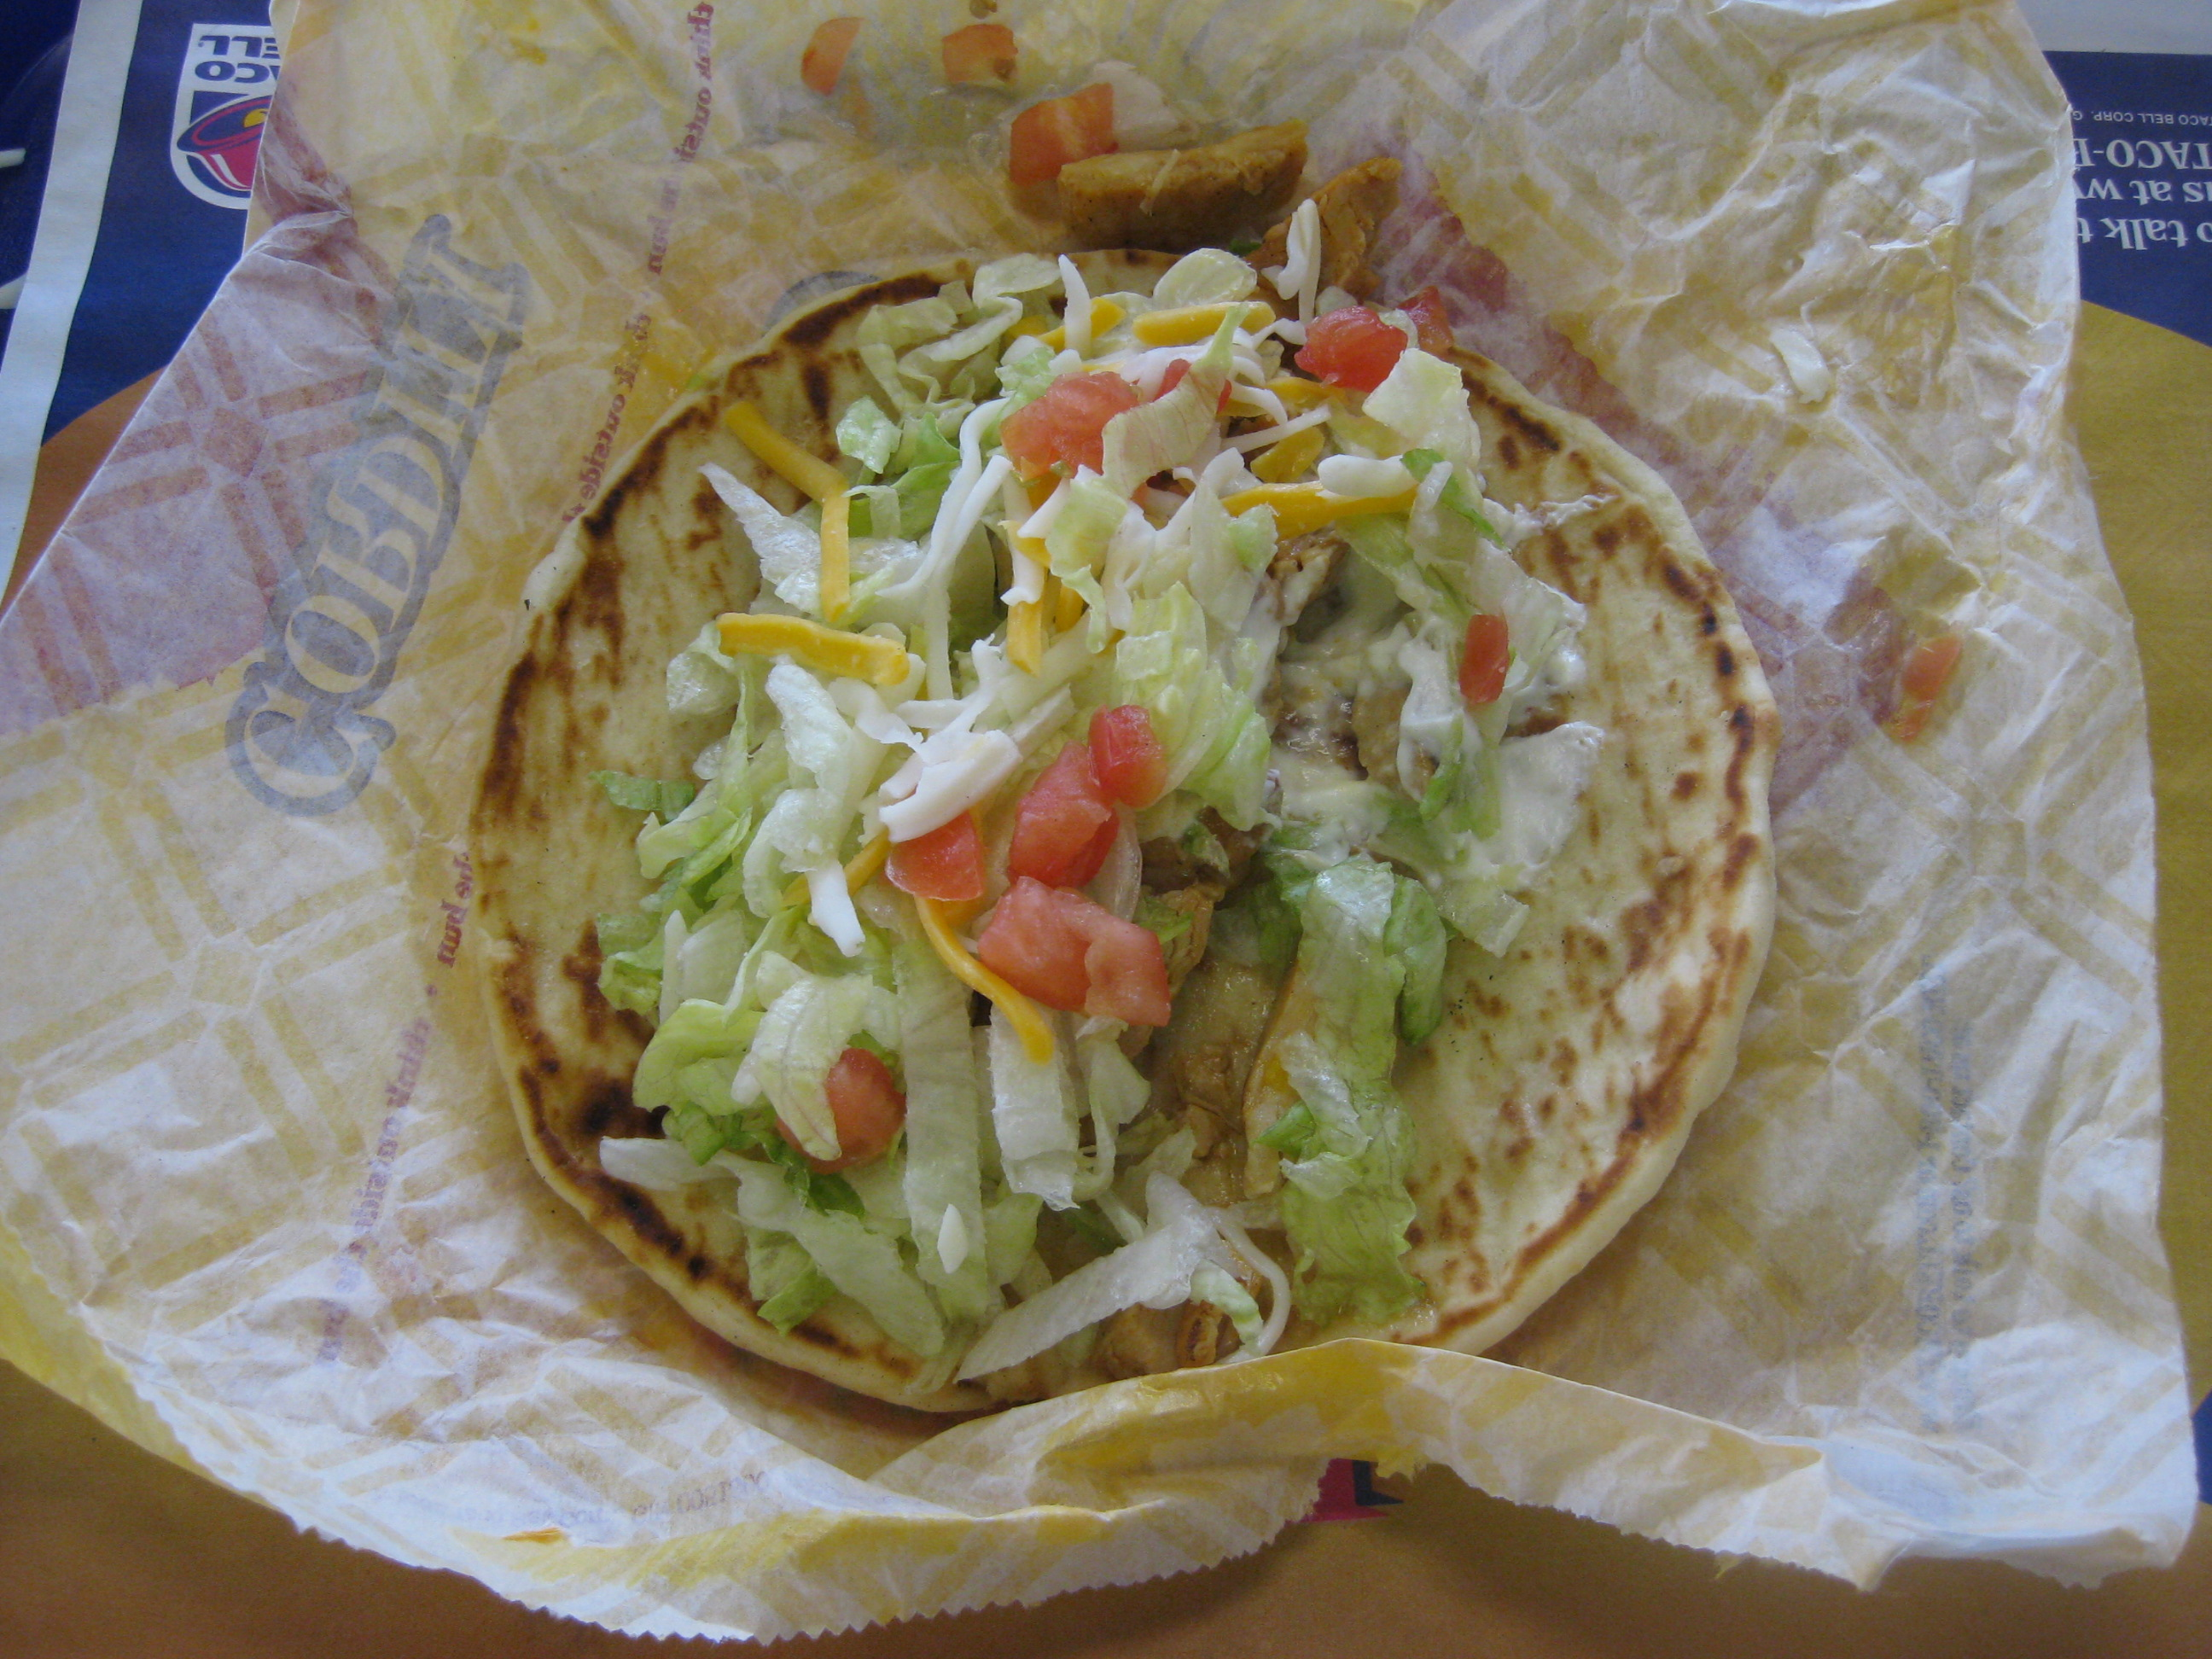taco: (439, 144, 1787, 1376)
